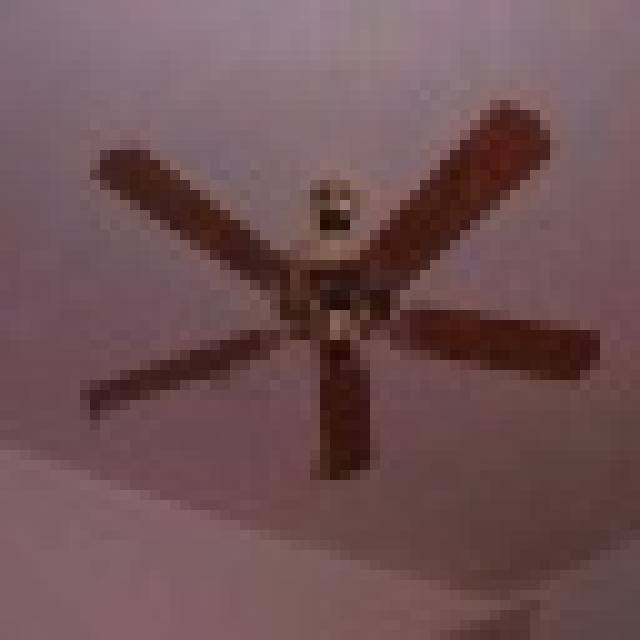Bulb: (49, 76, 609, 528)
